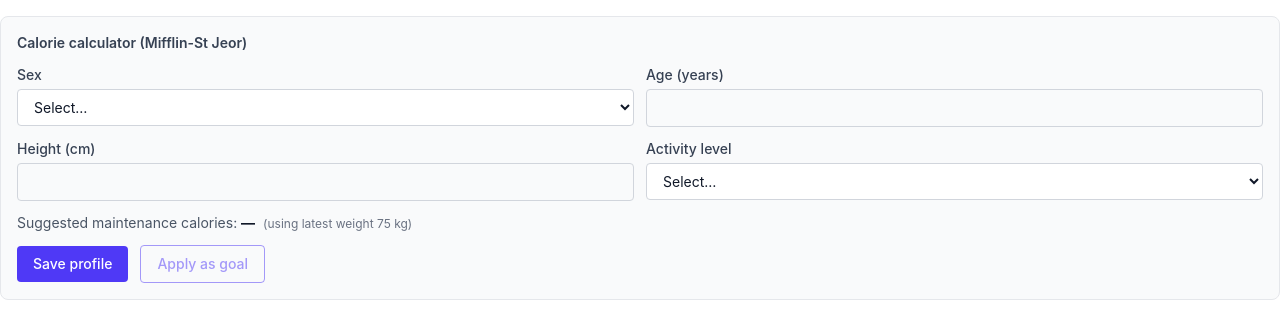
CalorieCalculator › updates suggested kcal when all fields are filled
Expected: the text "(using latest weight 75 kg)" is shown, [263,216,412,231]
Expected: the text with test id "suggested-kcal" reads "—", [241,214,255,231]
Select "Male" in the dropdown labelled "Sex" at (326, 108), box [17,89,634,126]
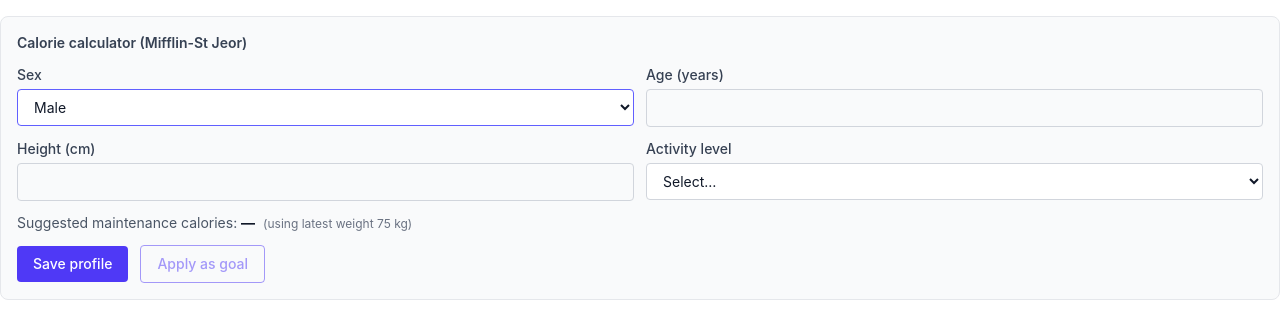
Type "25" into the number field labelled "Age (years)" at (954, 108), box [646,89,1263,127]
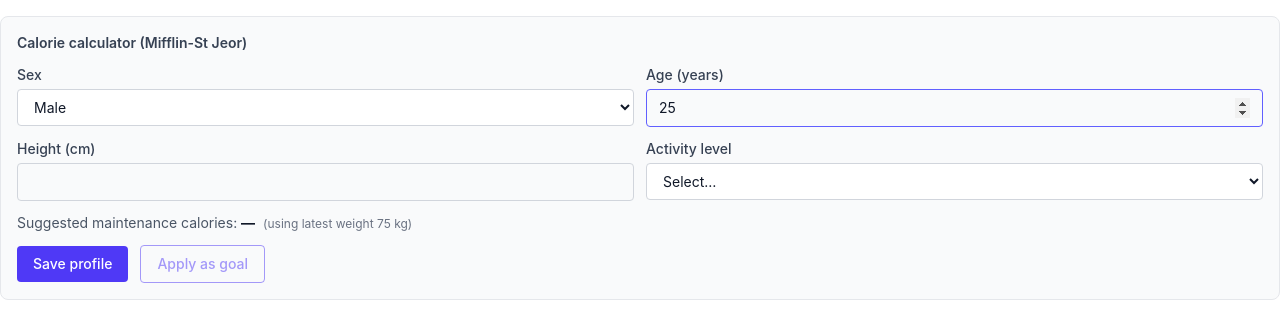
Type "170" into the number field labelled "Height (cm)" at (326, 182), box [17,163,634,201]
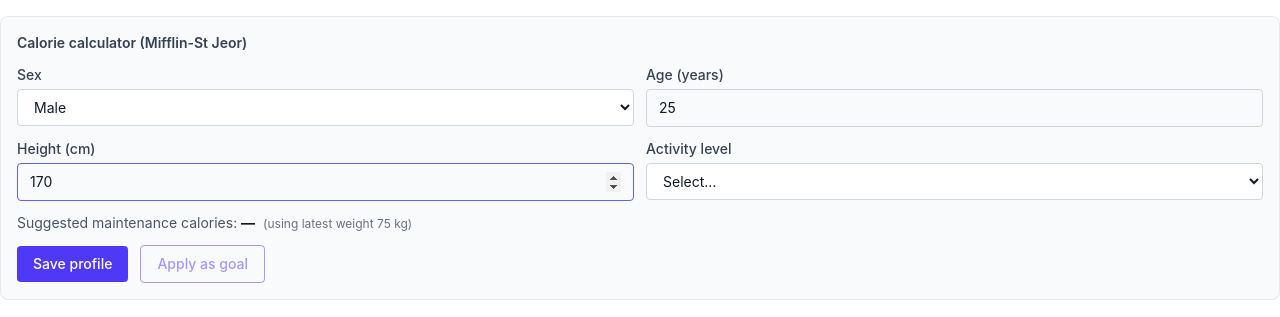
Select "Sedentary" in the dropdown labelled "Activity level" at (954, 182), box [646,163,1263,200]
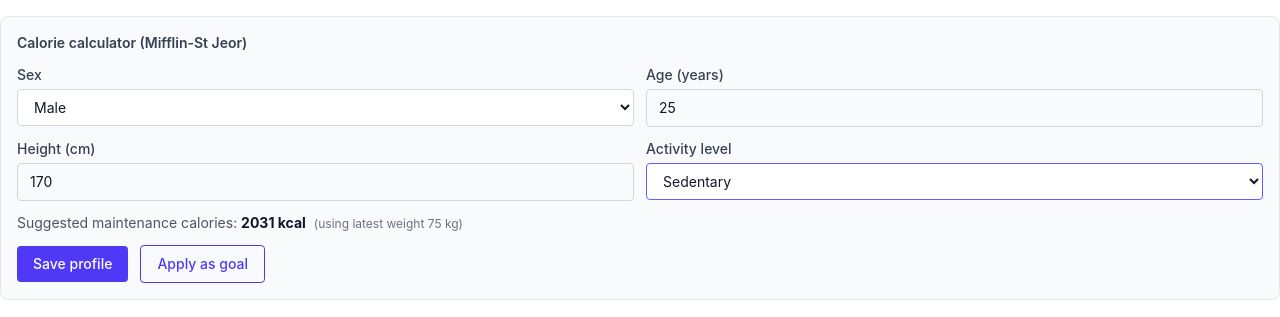
Expected: the text with test id "suggested-kcal" reads "2031 kcal", [241,214,306,231]
